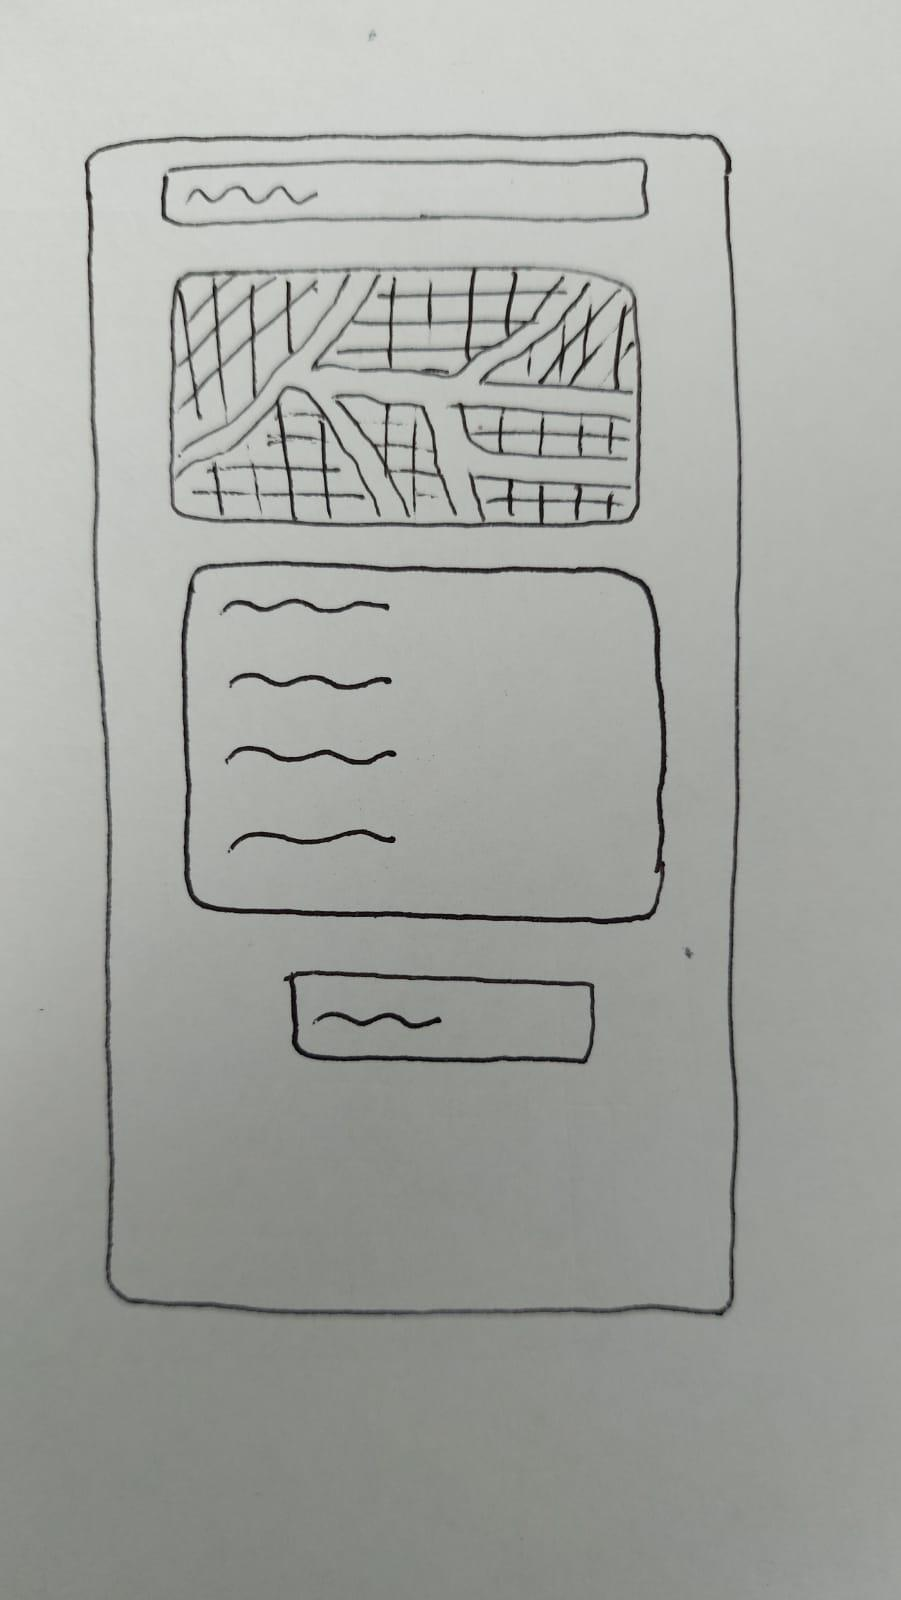Map: (168, 265, 641, 527)
Screen: (84, 131, 742, 1318)
TextBox: (178, 560, 666, 925), (160, 155, 649, 227), (286, 970, 596, 1064)
